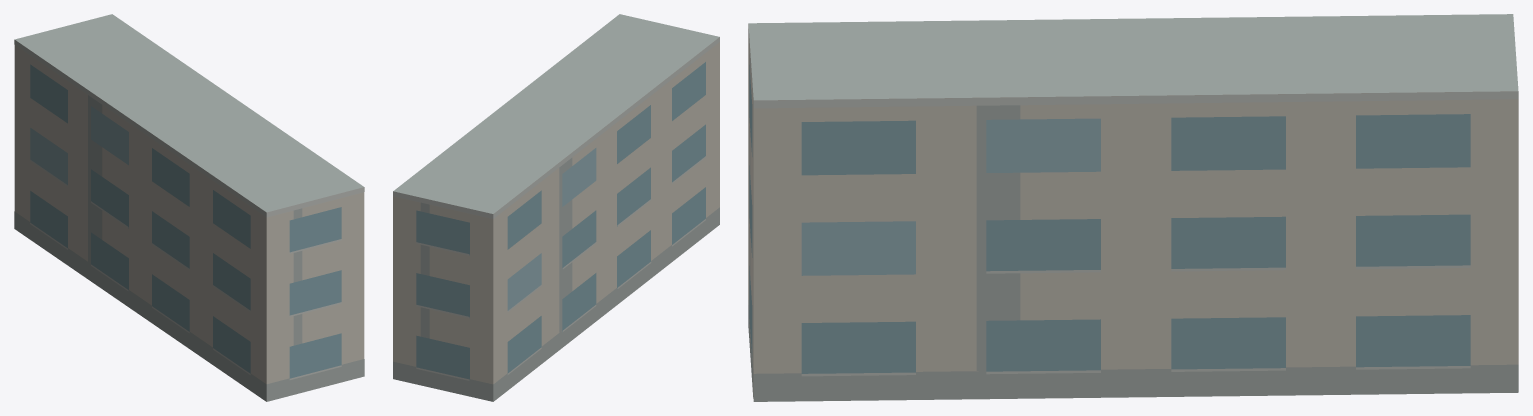
Rendered from survey-upis-32500592.glb.
The picture shows the model from 3 angles, left to right: view 1: azimuth 30°, elevation 25°; view 2: azimuth 150°, elevation 25°; view 3: azimuth 270°, elevation 25°; orthographic projection. The views are drawn at different scales.
Parts seen in each view (by area): view 1: survey-upis-32500592.tmp; view 2: survey-upis-32500592.tmp; view 3: survey-upis-32500592.tmp.
Boxes of the visible parts, x1,y1,x2,y2 form: survey-upis-32500592.tmp: (14,14,364,401); survey-upis-32500592.tmp: (393,14,719,401); survey-upis-32500592.tmp: (748,14,1518,401).
Bounding box in the file's own units: 5.63 × 9.15 × 21.2.
